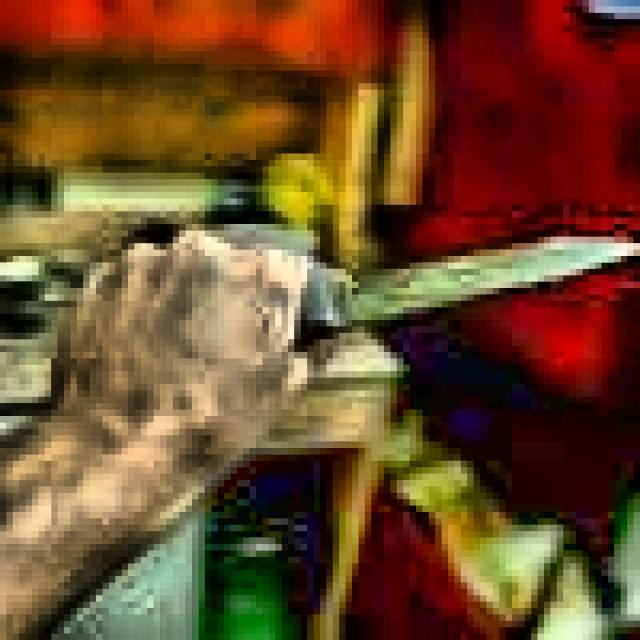knife: (54, 231, 634, 401)
